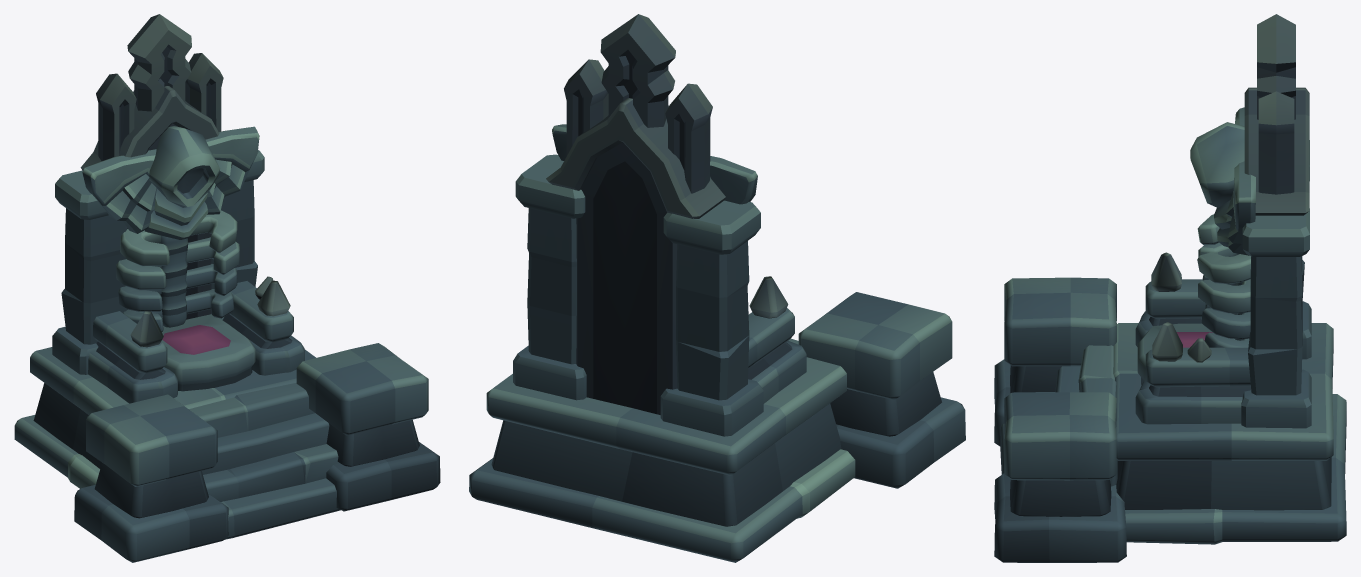
File: throne.fbx
The picture shows the model from 3 angles, left to right: view 1: azimuth 30°, elevation 25°; view 2: azimuth 150°, elevation 25°; view 3: azimuth 270°, elevation 25°; orthographic projection. The views are drawn at different scales.
Visible parts, largest first — view 1: throne; view 2: throne; view 3: throne.
Part boxes in pixels (x1,y1,x2,y2): throne: (14,14,440,562); throne: (469,14,965,562); throne: (994,14,1346,562).
Size of the model in its own units: 373 by 481 by 327.
